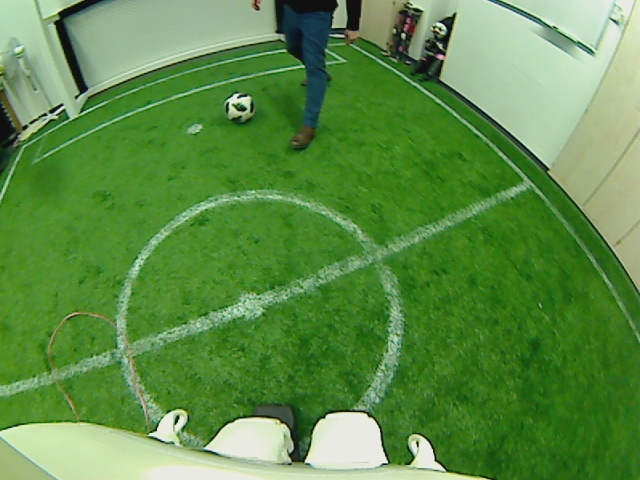ball: (223, 91, 256, 125)
